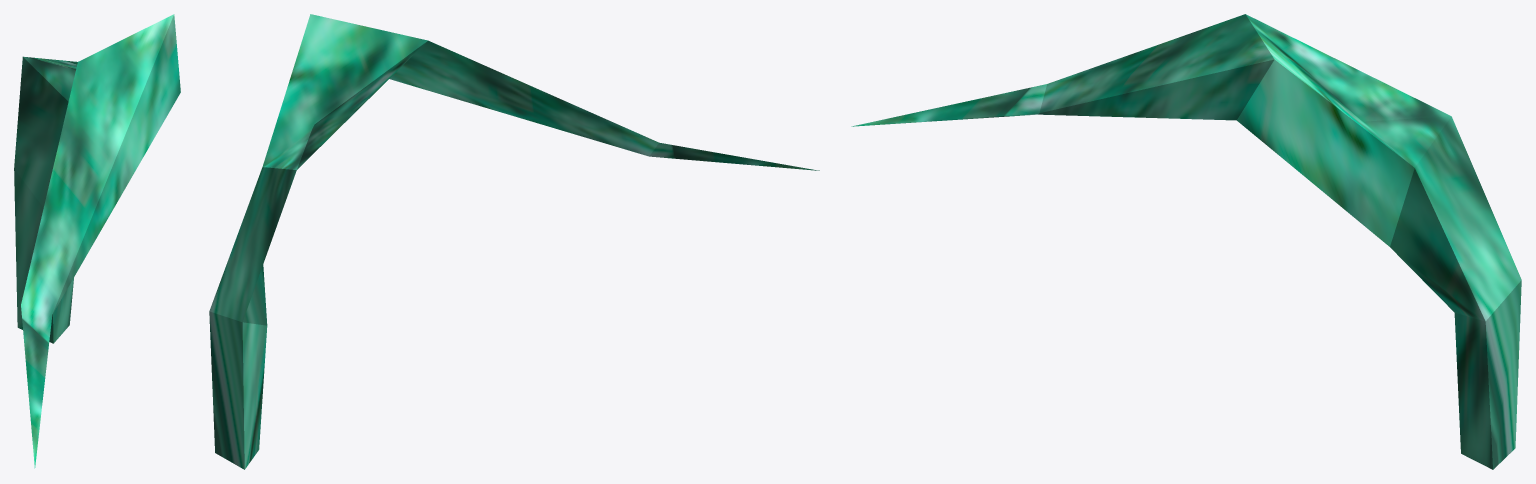
The model's file is H1_BluePlant_Branch_9.gltf.
3 views of the same model, side by side, from view 1: azimuth 30°, elevation 25°; view 2: azimuth 150°, elevation 25°; view 3: azimuth 270°, elevation 25° (orthographic). The views are drawn at different scales.
Parts seen in each view (by area): view 1: H1_BluePlant_Branch_9; view 2: H1_BluePlant_Branch_9; view 3: H1_BluePlant_Branch_9.
Boxes of the visible parts, box(x1,y1,x2,y2) form: H1_BluePlant_Branch_9: box(14, 14, 180, 468); H1_BluePlant_Branch_9: box(209, 14, 819, 469); H1_BluePlant_Branch_9: box(851, 14, 1521, 469).
Size of the model in its own units: 3.49 by 3.72 by 5.5.
1 material, 1 textured.
